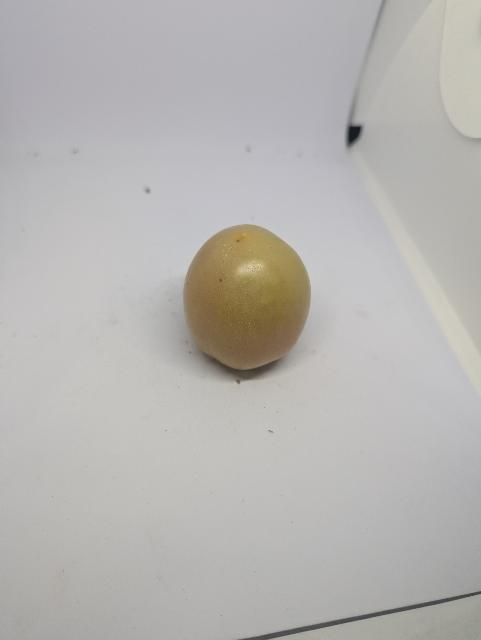turning: (181, 224, 318, 375)
